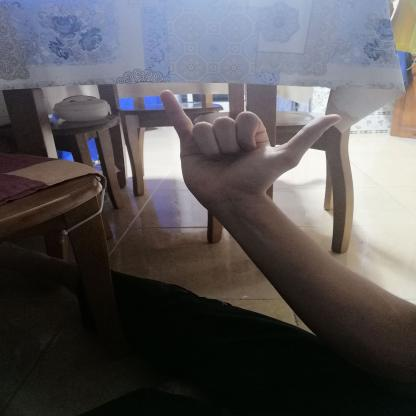YA: (148, 76, 349, 212)
